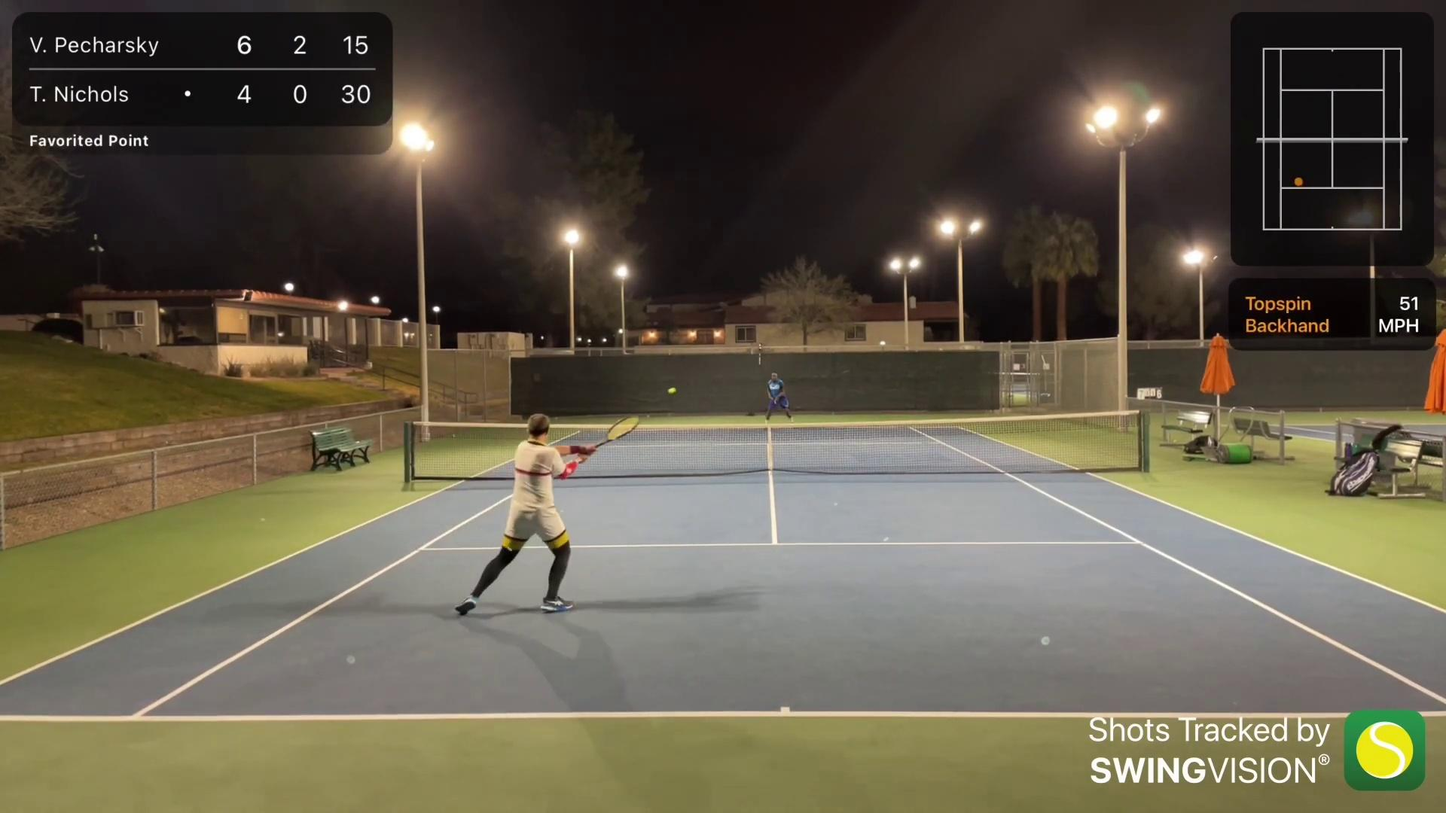ball: (671, 387, 678, 394)
